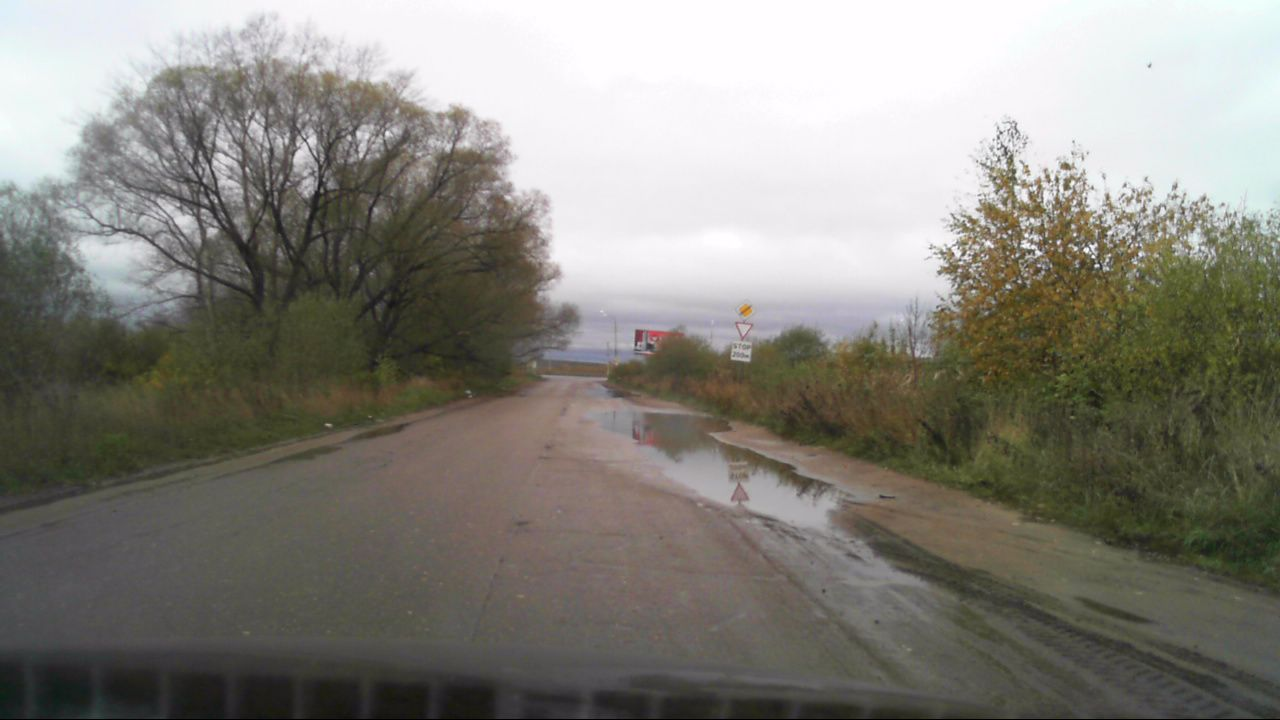main road: (734, 298, 756, 320)
